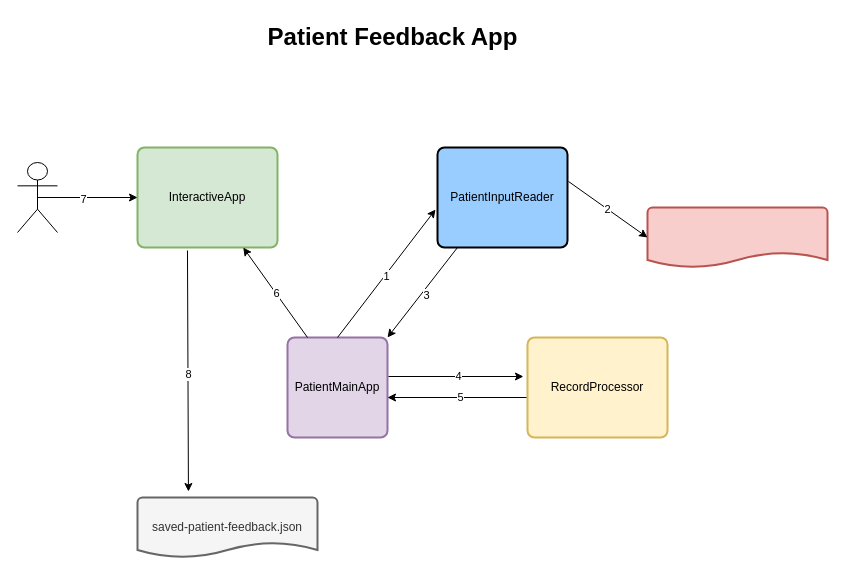
This 846x575 diagram has some shape labels left out. The box of each missing label's shape, as (x1, y1, x2, y2) in pixels:
Actor: (16, 162, 58, 232)
patient-feedback-raw-data.json: (646, 206, 828, 268)
